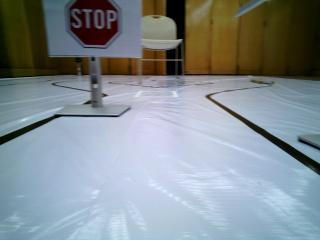stop: (53, 0, 134, 60)
